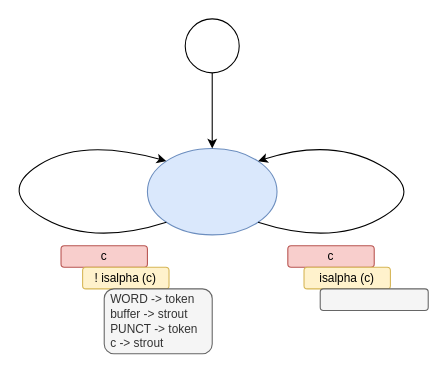
This 447x373 diagram has some shape labels left out. The shapes that lost their labels are listed below. From the top down, each one's centre as x and y in pixels, then its label:
At (x=211, y=191): "wait for character".
At (x=373, y=299): "buffer += c".
